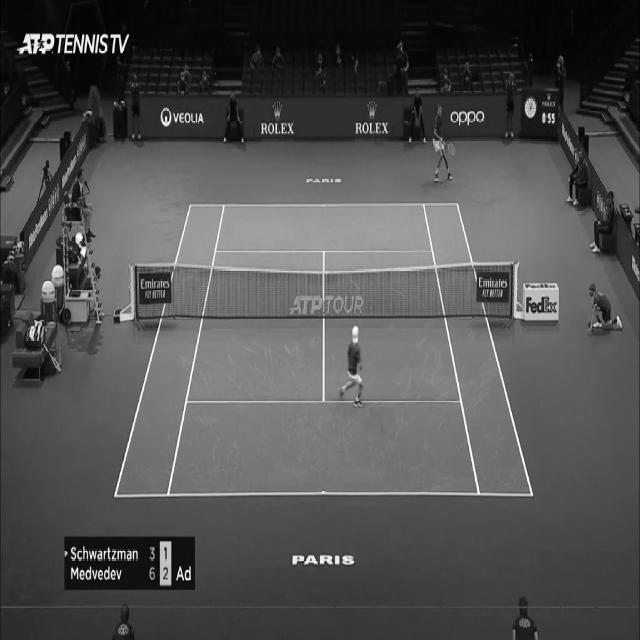tennis-court: (113, 203, 534, 497)
